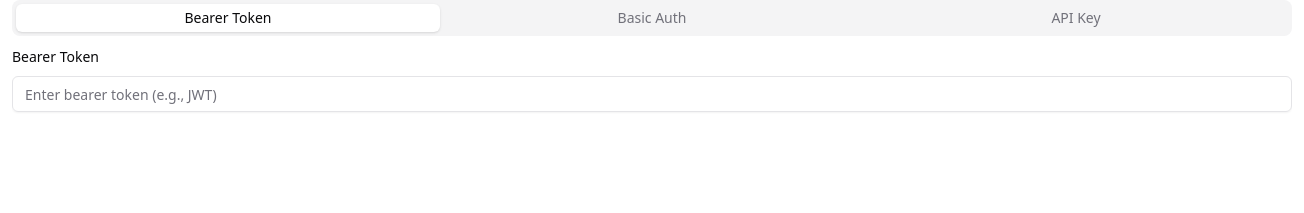
Test: AuthTab › should maintain state when switching between tabs
// Enter token in Bearer tab
Type "test-token" into the field with placeholder "Enter bearer token (e.g., JWT)" at (652, 94), box x1=12 y1=76 x2=1292 y2=112
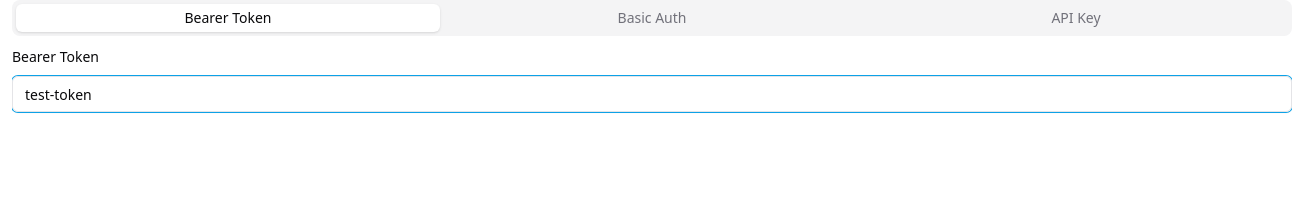
// Switch to Basic Auth
Click the tab "Basic Auth" at (652, 18), box x1=440 y1=4 x2=864 y2=32
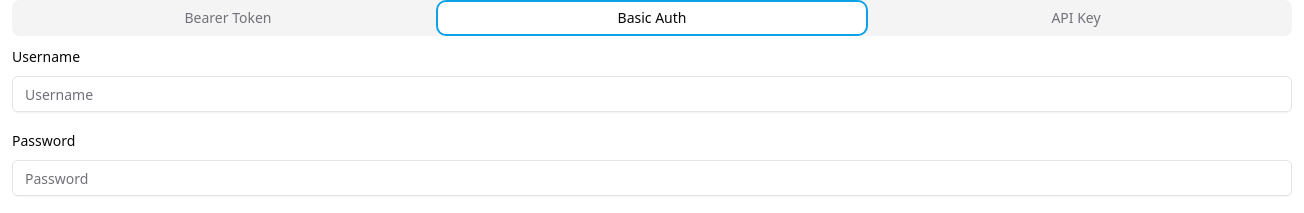
// Switch back to Bearer
Click the tab "Bearer Token" at (228, 18), box x1=16 y1=4 x2=440 y2=32
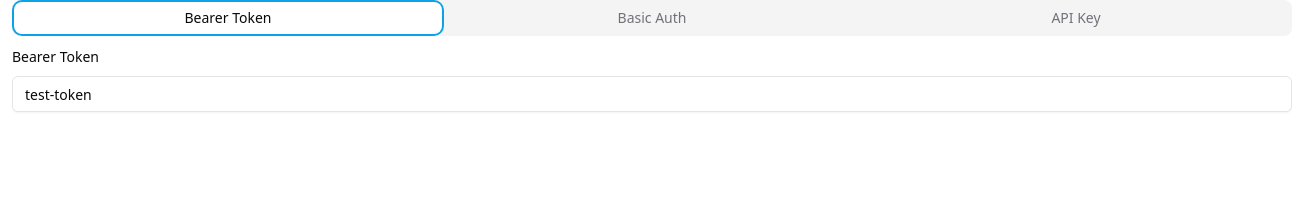
Now the field with placeholder "Enter bearer token (e.g., JWT)" holds "test-token", box x1=12 y1=76 x2=1292 y2=112
